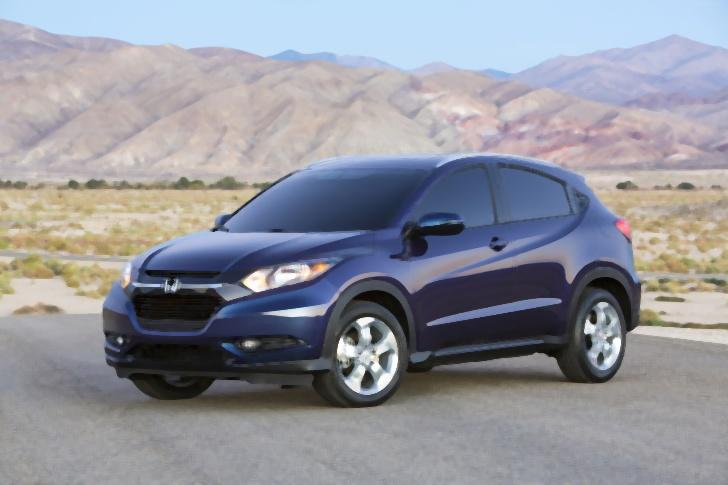Car hood: (128, 228, 377, 284)
Fender - -F-L-: (323, 220, 427, 367)
Fender - -R-L-: (579, 202, 638, 291)
Front bumper: (98, 286, 347, 384)
Headlight - -L-: (238, 253, 352, 301)
Headlight - -R-: (115, 249, 143, 291)
Passenger-s door - -F-L-: (411, 152, 510, 355)
Passenger-s door - -R-L-: (506, 157, 595, 348)
Rear bumper: (618, 264, 652, 340)
Rear light - -L-: (609, 212, 641, 244)
Side bumper - -L-: (400, 331, 573, 376)
Side mirror - -L-: (410, 207, 467, 239)
Side mirror - -R-: (207, 208, 238, 233)
